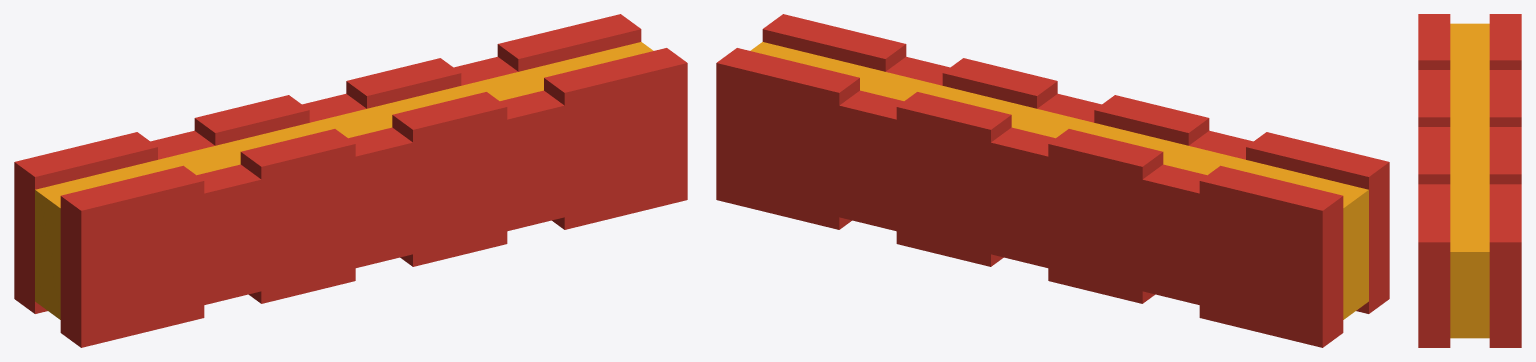
The model's file is Barricade_Plastic_02.fbx.
3 views of the same model, side by side, from view 1: azimuth 30°, elevation 25°; view 2: azimuth 150°, elevation 25°; view 3: azimuth 270°, elevation 25° (orthographic). The views are drawn at different scales.
Parts seen in each view (by area): view 1: Obstacle_Barricade_Plastic_02; view 2: Obstacle_Barricade_Plastic_02; view 3: Obstacle_Barricade_Plastic_02.
Boxes of the visible parts, x1,y1,x2,y2 form: Obstacle_Barricade_Plastic_02: [14, 14, 687, 347]; Obstacle_Barricade_Plastic_02: [716, 14, 1389, 347]; Obstacle_Barricade_Plastic_02: [1418, 14, 1521, 347].
Size of the model in its own units: 150 by 32.4 by 28.63.
Materials: 1 (1 with a texture image).
